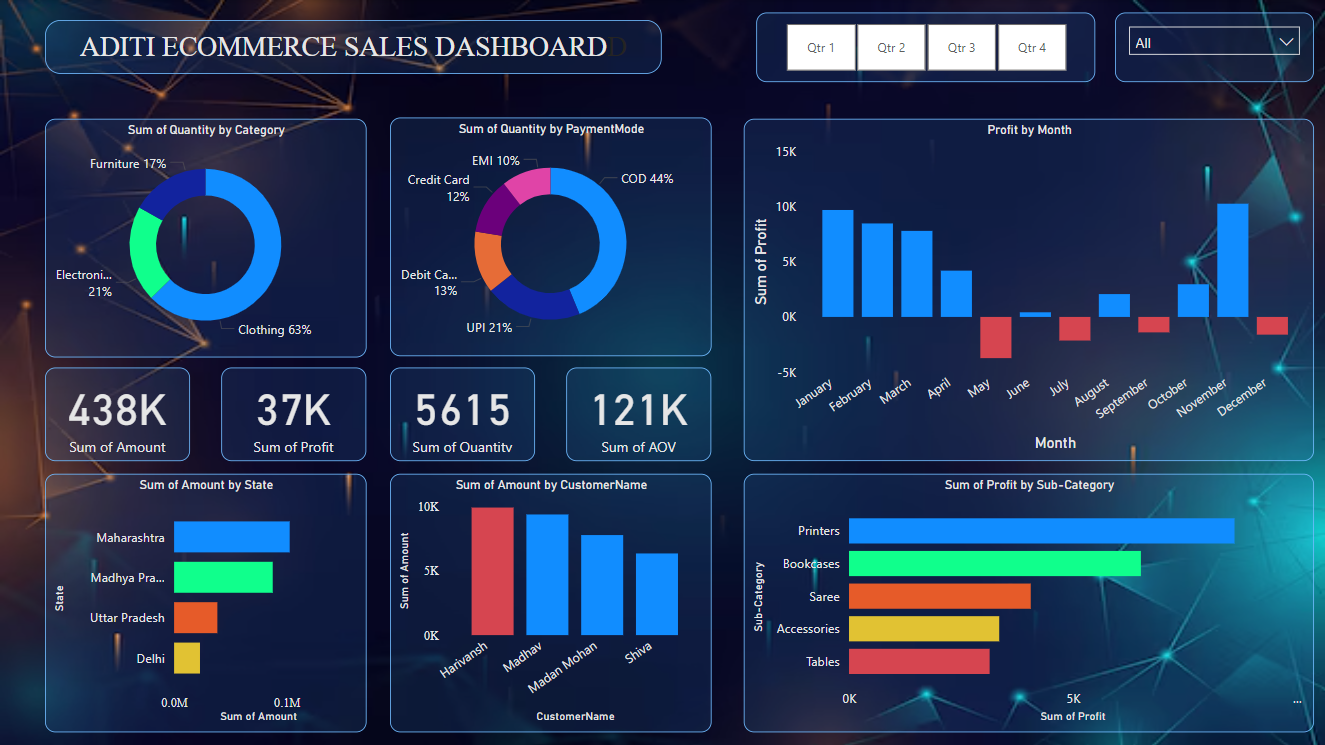

The page's visual inventory and layout, read from the dashboard file:
{"tool":"powerbi","page":{"name":"Page 1","canvas":[1280,720],"ordinal":0},"visuals":[{"type":"textbox","box":[43.9,19.2,595.5,52.1],"z":0},{"type":"columnChart","title":"Profit by Month","fields":{"Category":["Orders.Order Date.Variation.Date Hierarchy.Month"],"Y":["Details.Profit"]},"box":[717.8,114.6,550.1,330.6],"z":1000},{"type":"barChart","fields":{"Category":["Details.Sub-Category"],"Y":["Details.Profit"]},"box":[717.8,457.2,550.1,249.7],"z":2000},{"type":"donutChart","fields":{"Y":["Details.Quantity"],"Category":["Details.PaymentMode"]},"box":[376.4,113.4,310.1,230.4],"z":3000},{"type":"donutChart","fields":{"Category":["Details.Category"],"Y":["Details.Quantity"]},"box":[43.4,114.6,310,230],"z":4000},{"type":"card","fields":{"Values":["Details.Amount"]},"box":[43.4,354.7,139.9,90.5],"z":5000},{"type":"card","fields":{"Values":["Details.Profit"]},"box":[213.5,354.7,139.9,90.5],"z":6000},{"type":"card","fields":{"Values":["Details.Quantity"]},"box":[376.4,354.7,139.9,90.5],"z":7000},{"type":"card","fields":{"Values":["Details.AOV"]},"box":[546.5,354.7,139.9,90.5],"z":8000},{"type":"barChart","fields":{"Category":["Orders.State"],"Y":["Details.Amount"]},"box":[43.4,457.2,310.1,249.7],"z":9000},{"type":"columnChart","fields":{"Category":["Orders.CustomerName"],"Y":["Details.Amount"]},"box":[376.4,457.2,310.1,249.7],"z":10000},{"type":"slicer","fields":{"Values":["Orders.Order Date.Variation.Date Hierarchy.Quarter"]},"box":[729.9,12.1,326.9,67.6],"z":11000},{"type":"slicer","fields":{"Values":["Orders.State"]},"box":[1076.1,12.1,191.8,67.6],"z":12000}]}

Visuals, with their boxes in screenshot pixels (x1, y1, x2, y2), scaled from the page's 1280x720 canvas onto the 1325x745 screenshot:
textbox: left=45, top=20, right=662, bottom=74
"Profit by Month" columnChart: left=743, top=119, right=1312, bottom=461
barChart - Details.Sub-Category x Details.Profit: left=743, top=473, right=1312, bottom=731
donutChart - Details.Quantity x Details.PaymentMode: left=390, top=117, right=711, bottom=356
donutChart - Details.Category x Details.Quantity: left=45, top=119, right=366, bottom=357
card - Details.Amount: left=45, top=367, right=190, bottom=461
card - Details.Profit: left=221, top=367, right=366, bottom=461
card - Details.Quantity: left=390, top=367, right=534, bottom=461
card - Details.AOV: left=566, top=367, right=711, bottom=461
barChart - Orders.State x Details.Amount: left=45, top=473, right=366, bottom=731
columnChart - Orders.CustomerName x Details.Amount: left=390, top=473, right=711, bottom=731
slicer - Orders.Order Date.Variation.Date Hierarchy.Quarter: left=756, top=13, right=1094, bottom=82
slicer - Orders.State: left=1114, top=13, right=1312, bottom=82
